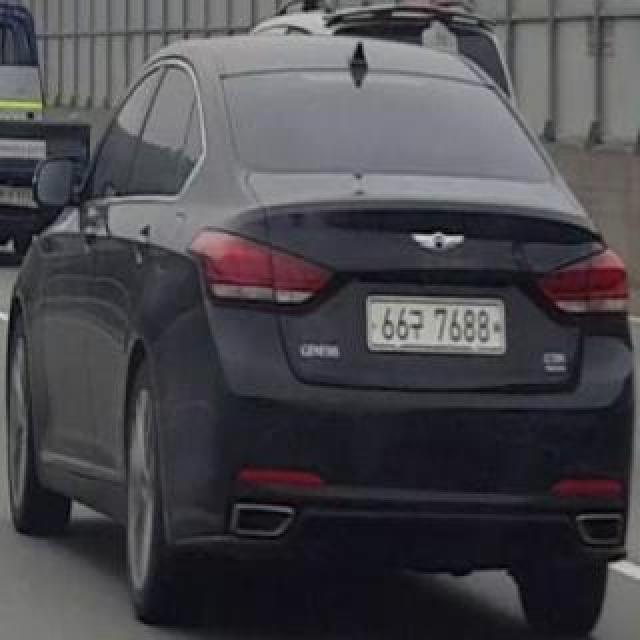car: (10, 28, 640, 638)
illegal_plate: (363, 289, 509, 360)
